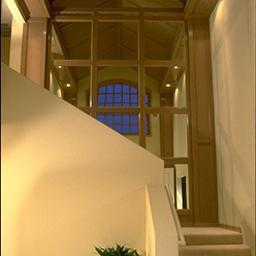Escaleras: (148, 174, 251, 254)
Ventana: (52, 17, 216, 224)
